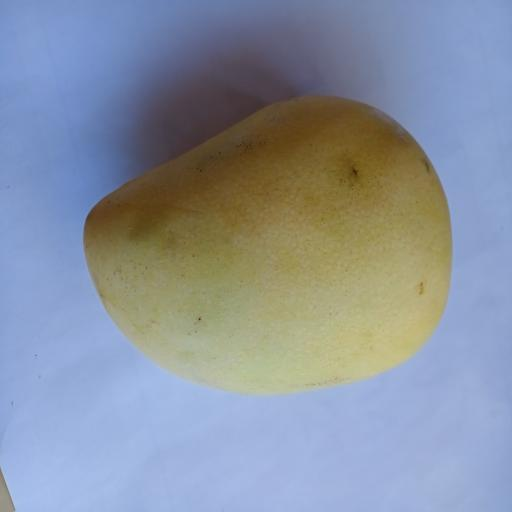mango-ripe: (68, 62, 463, 418)
